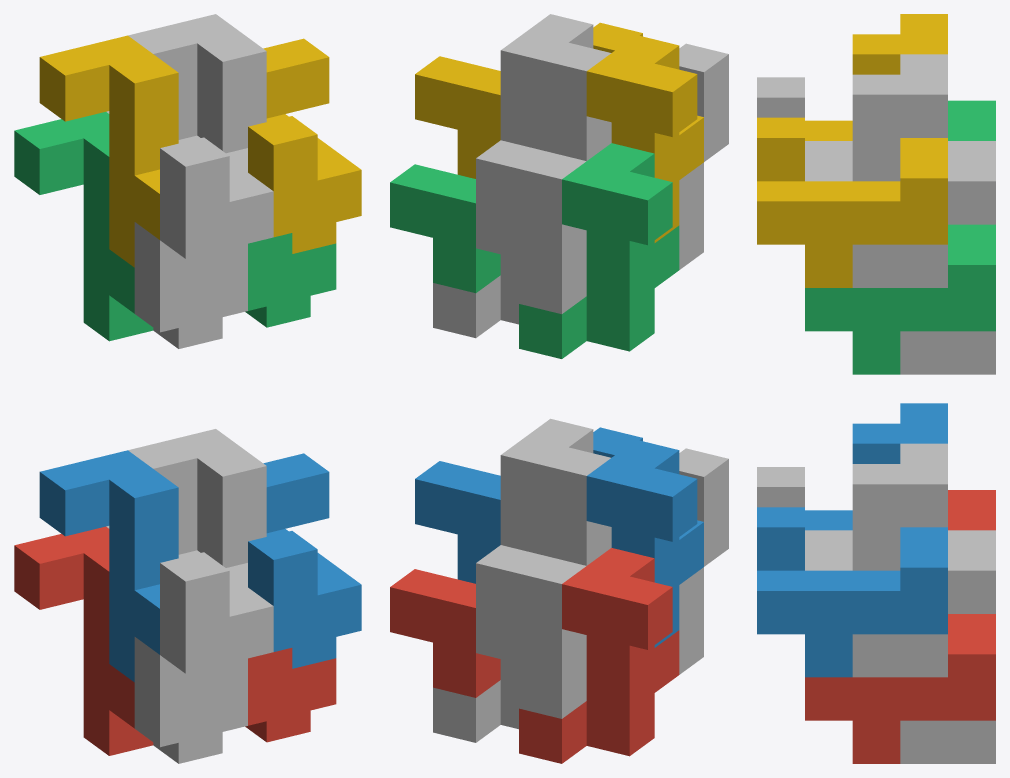
Rendered from tiling.obj.
3 views of the same model, side by side, from view 1: azimuth 30°, elevation 25°; view 2: azimuth 150°, elevation 25°; view 3: azimuth 270°, elevation 25° (orthographic). The views are drawn at different scales.
Parts seen in each view (by area): view 1: copy_1_domain_4, copy_1_domain_2, copy_2_domain_8, copy_2_domain_6, copy_1_domain_3, copy_1_domain_1, copy_2_domain_2, copy_2_domain_4, copy_1_domain_6, copy_1_domain_8, copy_2_domain_1, copy_2_domain_3 (+2 smaller); view 2: copy_1_domain_1, copy_1_domain_3, copy_1_domain_2, copy_1_domain_4, copy_1_domain_5, copy_1_domain_7, copy_2_domain_3, copy_2_domain_1, copy_2_domain_5, copy_2_domain_7, copy_2_domain_2, copy_2_domain_4 (+4 smaller); view 3: copy_2_domain_6, copy_2_domain_8, copy_1_domain_6, copy_1_domain_8, copy_2_domain_7, copy_2_domain_5, copy_1_domain_5, copy_1_domain_7, copy_1_domain_4, copy_1_domain_2, copy_2_domain_2, copy_2_domain_4 (+2 smaller).
Part boxes in pixels (x1,y1,x2,y2): copy_1_domain_4: (39, 35, 178, 267); copy_1_domain_2: (39, 450, 178, 682); copy_2_domain_8: (248, 38, 361, 253); copy_2_domain_6: (248, 453, 361, 668); copy_1_domain_3: (14, 112, 153, 341); copy_1_domain_1: (14, 526, 153, 755); copy_2_domain_2: (160, 504, 273, 690); copy_2_domain_4: (160, 89, 273, 275); copy_1_domain_6: (128, 429, 266, 586); copy_1_domain_8: (128, 14, 266, 172); copy_2_domain_1: (134, 637, 247, 763); copy_2_domain_3: (134, 222, 247, 348); copy_1_domain_1: (519, 548, 679, 763); copy_1_domain_3: (519, 143, 679, 358); copy_1_domain_2: (586, 439, 703, 647); copy_1_domain_4: (586, 35, 703, 242); copy_1_domain_5: (433, 545, 585, 742); copy_1_domain_7: (433, 140, 586, 338); copy_2_domain_3: (476, 162, 703, 314); copy_2_domain_1: (476, 567, 703, 718); copy_2_domain_5: (390, 569, 500, 697); copy_2_domain_7: (390, 164, 500, 293); copy_2_domain_2: (500, 448, 728, 566); copy_2_domain_4: (500, 43, 728, 161); copy_2_domain_6: (757, 507, 947, 677); copy_2_domain_8: (757, 117, 947, 287); copy_1_domain_6: (805, 443, 947, 677); copy_1_domain_8: (805, 54, 947, 287); copy_2_domain_7: (805, 224, 995, 374); copy_2_domain_5: (805, 614, 995, 763); copy_1_domain_5: (900, 530, 995, 763); copy_1_domain_7: (900, 141, 995, 374); copy_1_domain_4: (805, 14, 947, 140); copy_1_domain_2: (805, 403, 947, 530); copy_2_domain_2: (757, 467, 852, 550); copy_2_domain_4: (757, 77, 852, 160).
Size of the model in its own units: 6 by 15 by 5.
